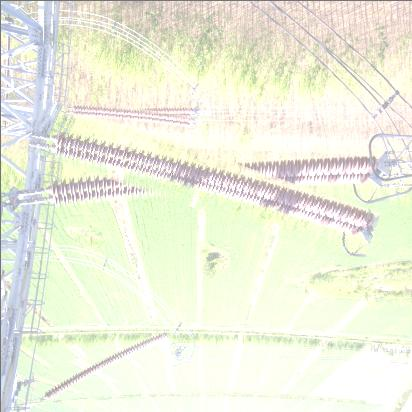insulator: (28, 126, 382, 238), (33, 341, 177, 395), (66, 103, 196, 129)
